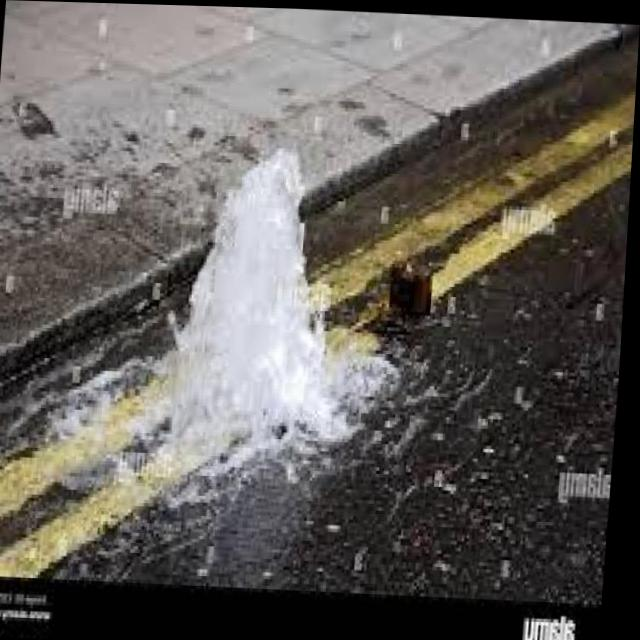leak: (15, 130, 368, 490)
